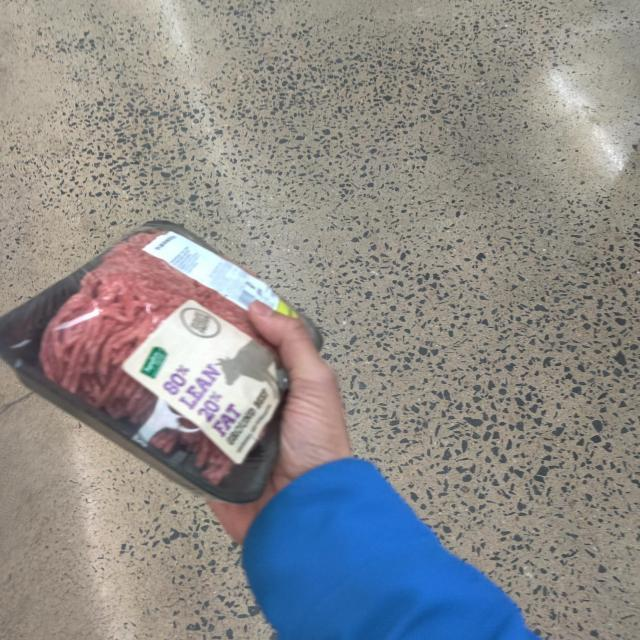Meat: (22, 218, 344, 506)
